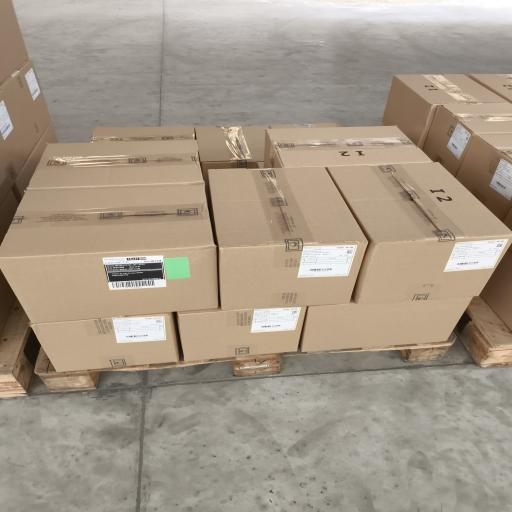pallet: (35, 334, 455, 391), (35, 348, 283, 392), (457, 297, 511, 367), (0, 301, 33, 397), (35, 348, 98, 392), (400, 332, 456, 362)
